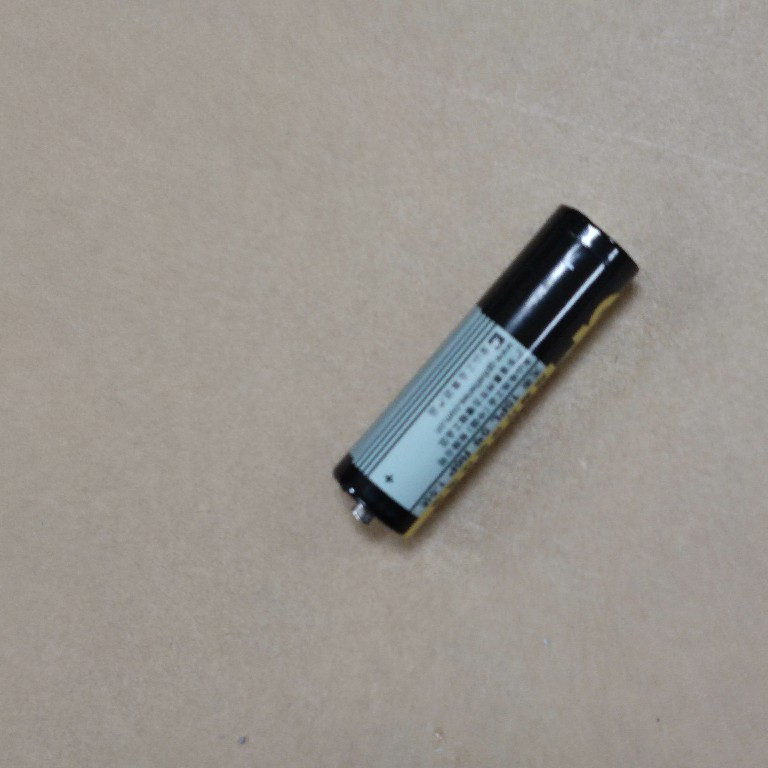charge: (327, 197, 645, 545)
